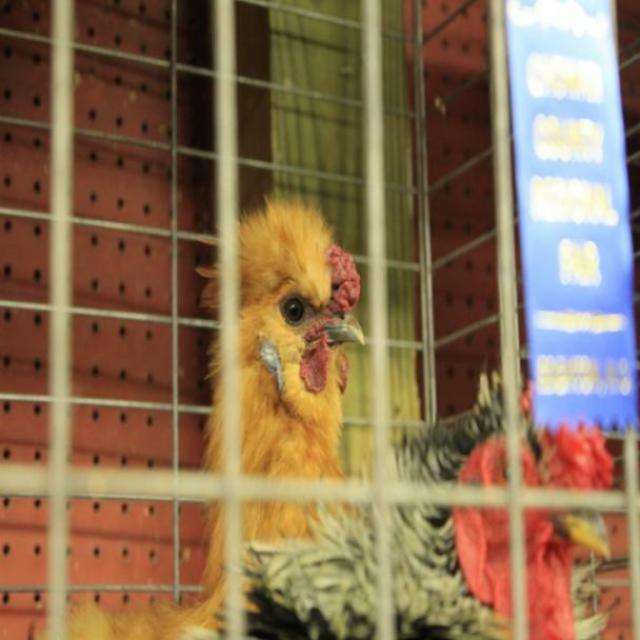Chicken: (56, 194, 367, 630)
